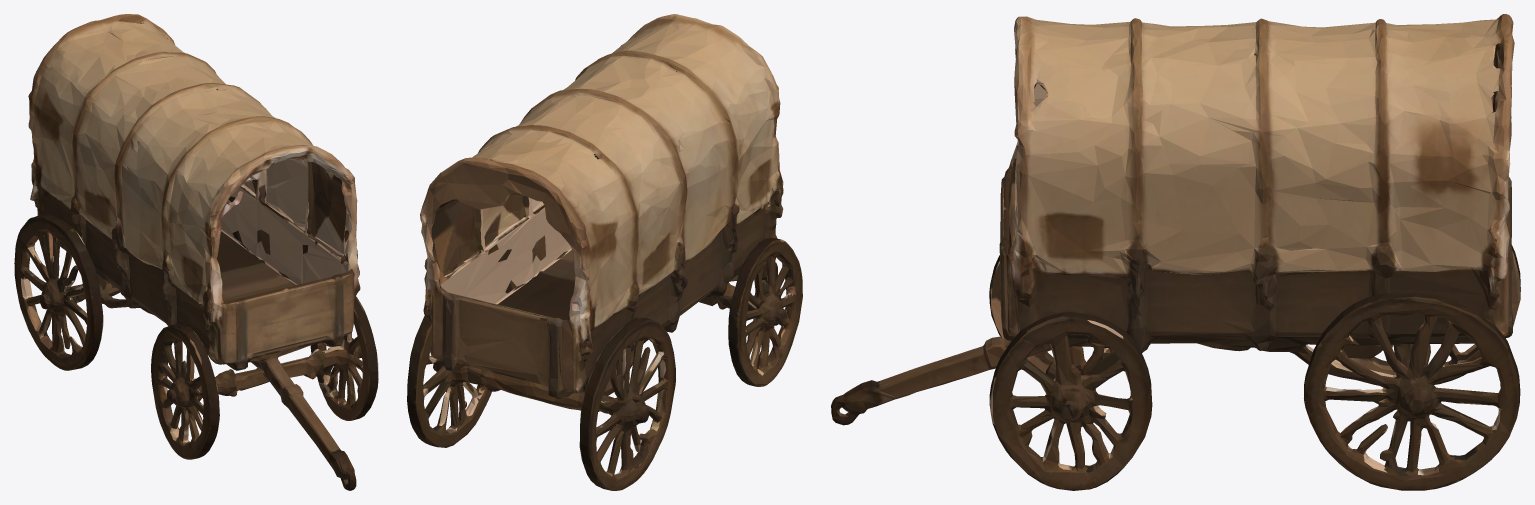
Rendered from wagon-hd.glb.
3 views of the same model, side by side, from view 1: azimuth 30°, elevation 25°; view 2: azimuth 150°, elevation 25°; view 3: azimuth 270°, elevation 25° (orthographic). The views are drawn at different scales.
Parts seen in each view (by area): view 1: tmp5gzuust7.ply; view 2: tmp5gzuust7.ply; view 3: tmp5gzuust7.ply.
Part boxes in pixels (x1,y1,x2,y2): tmp5gzuust7.ply: [14, 14, 378, 490]; tmp5gzuust7.ply: [407, 14, 802, 490]; tmp5gzuust7.ply: [831, 14, 1520, 490].
Size of the model in its own units: 0.8716 by 1.29 by 1.99.
1 material, 1 textured.
